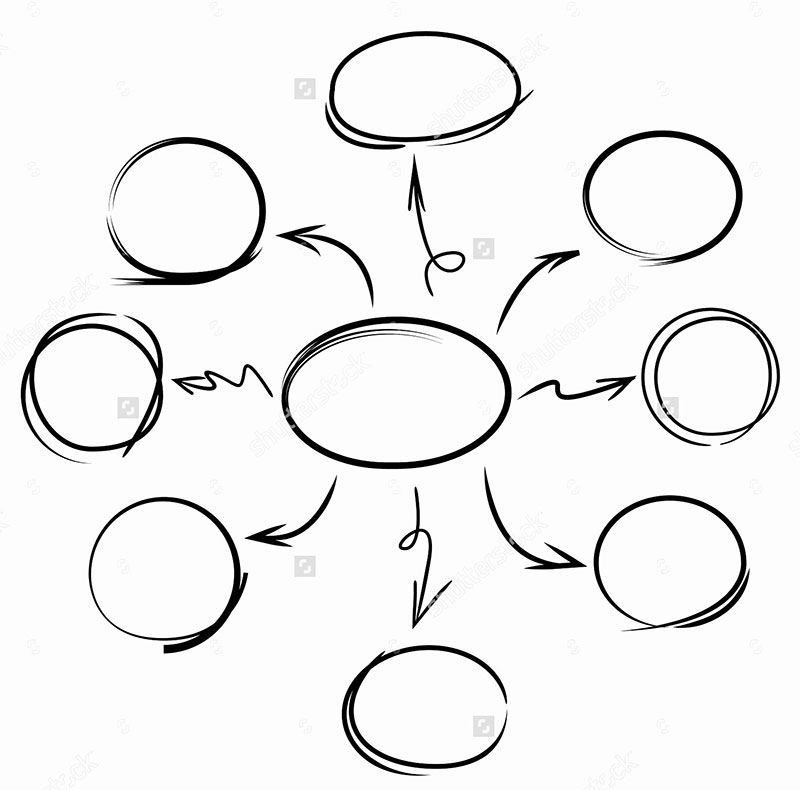circle: (276, 313, 517, 474), (322, 27, 536, 155), (83, 494, 248, 659), (103, 134, 271, 291), (578, 126, 748, 271), (590, 491, 752, 641), (16, 307, 166, 467), (336, 642, 511, 778), (633, 304, 784, 450)
line: (478, 465, 588, 578), (274, 219, 379, 311), (404, 150, 466, 299), (395, 482, 454, 632), (492, 244, 584, 338), (239, 474, 344, 552), (514, 364, 636, 417)
